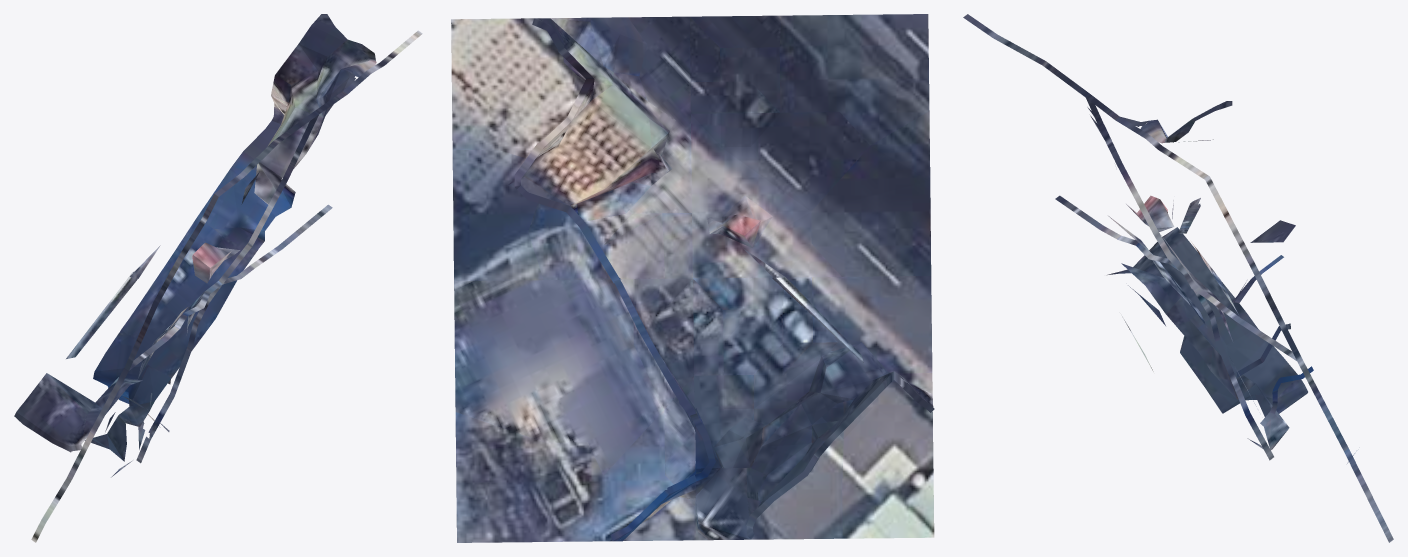
3 renders of one model, left to right at view 1: azimuth 30°, elevation 25°; view 2: azimuth 150°, elevation 25°; view 3: azimuth 270°, elevation 25°, orthographic. The views are drawn at different scales.
Bounding box in the file's own units: 39.15 × 37.22 × 32.66.
Materials: 1 (1 with a texture image).
